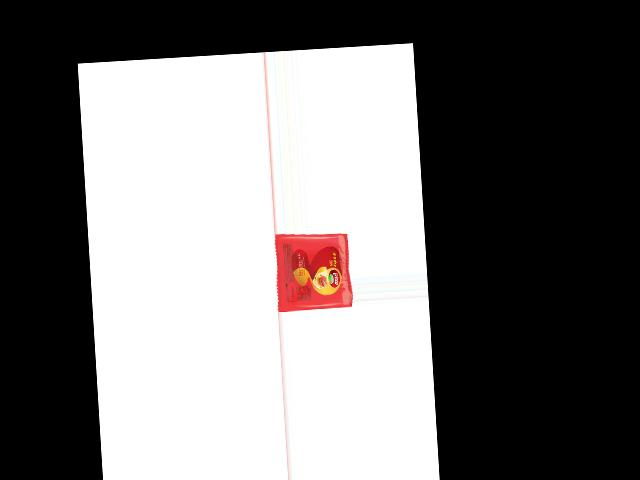cheese: (273, 232, 352, 313)
